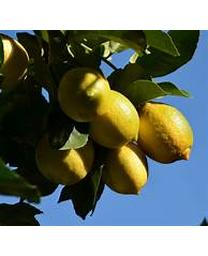lemon: (136, 103, 193, 161), (84, 90, 141, 146), (60, 68, 111, 122), (104, 148, 147, 197)
